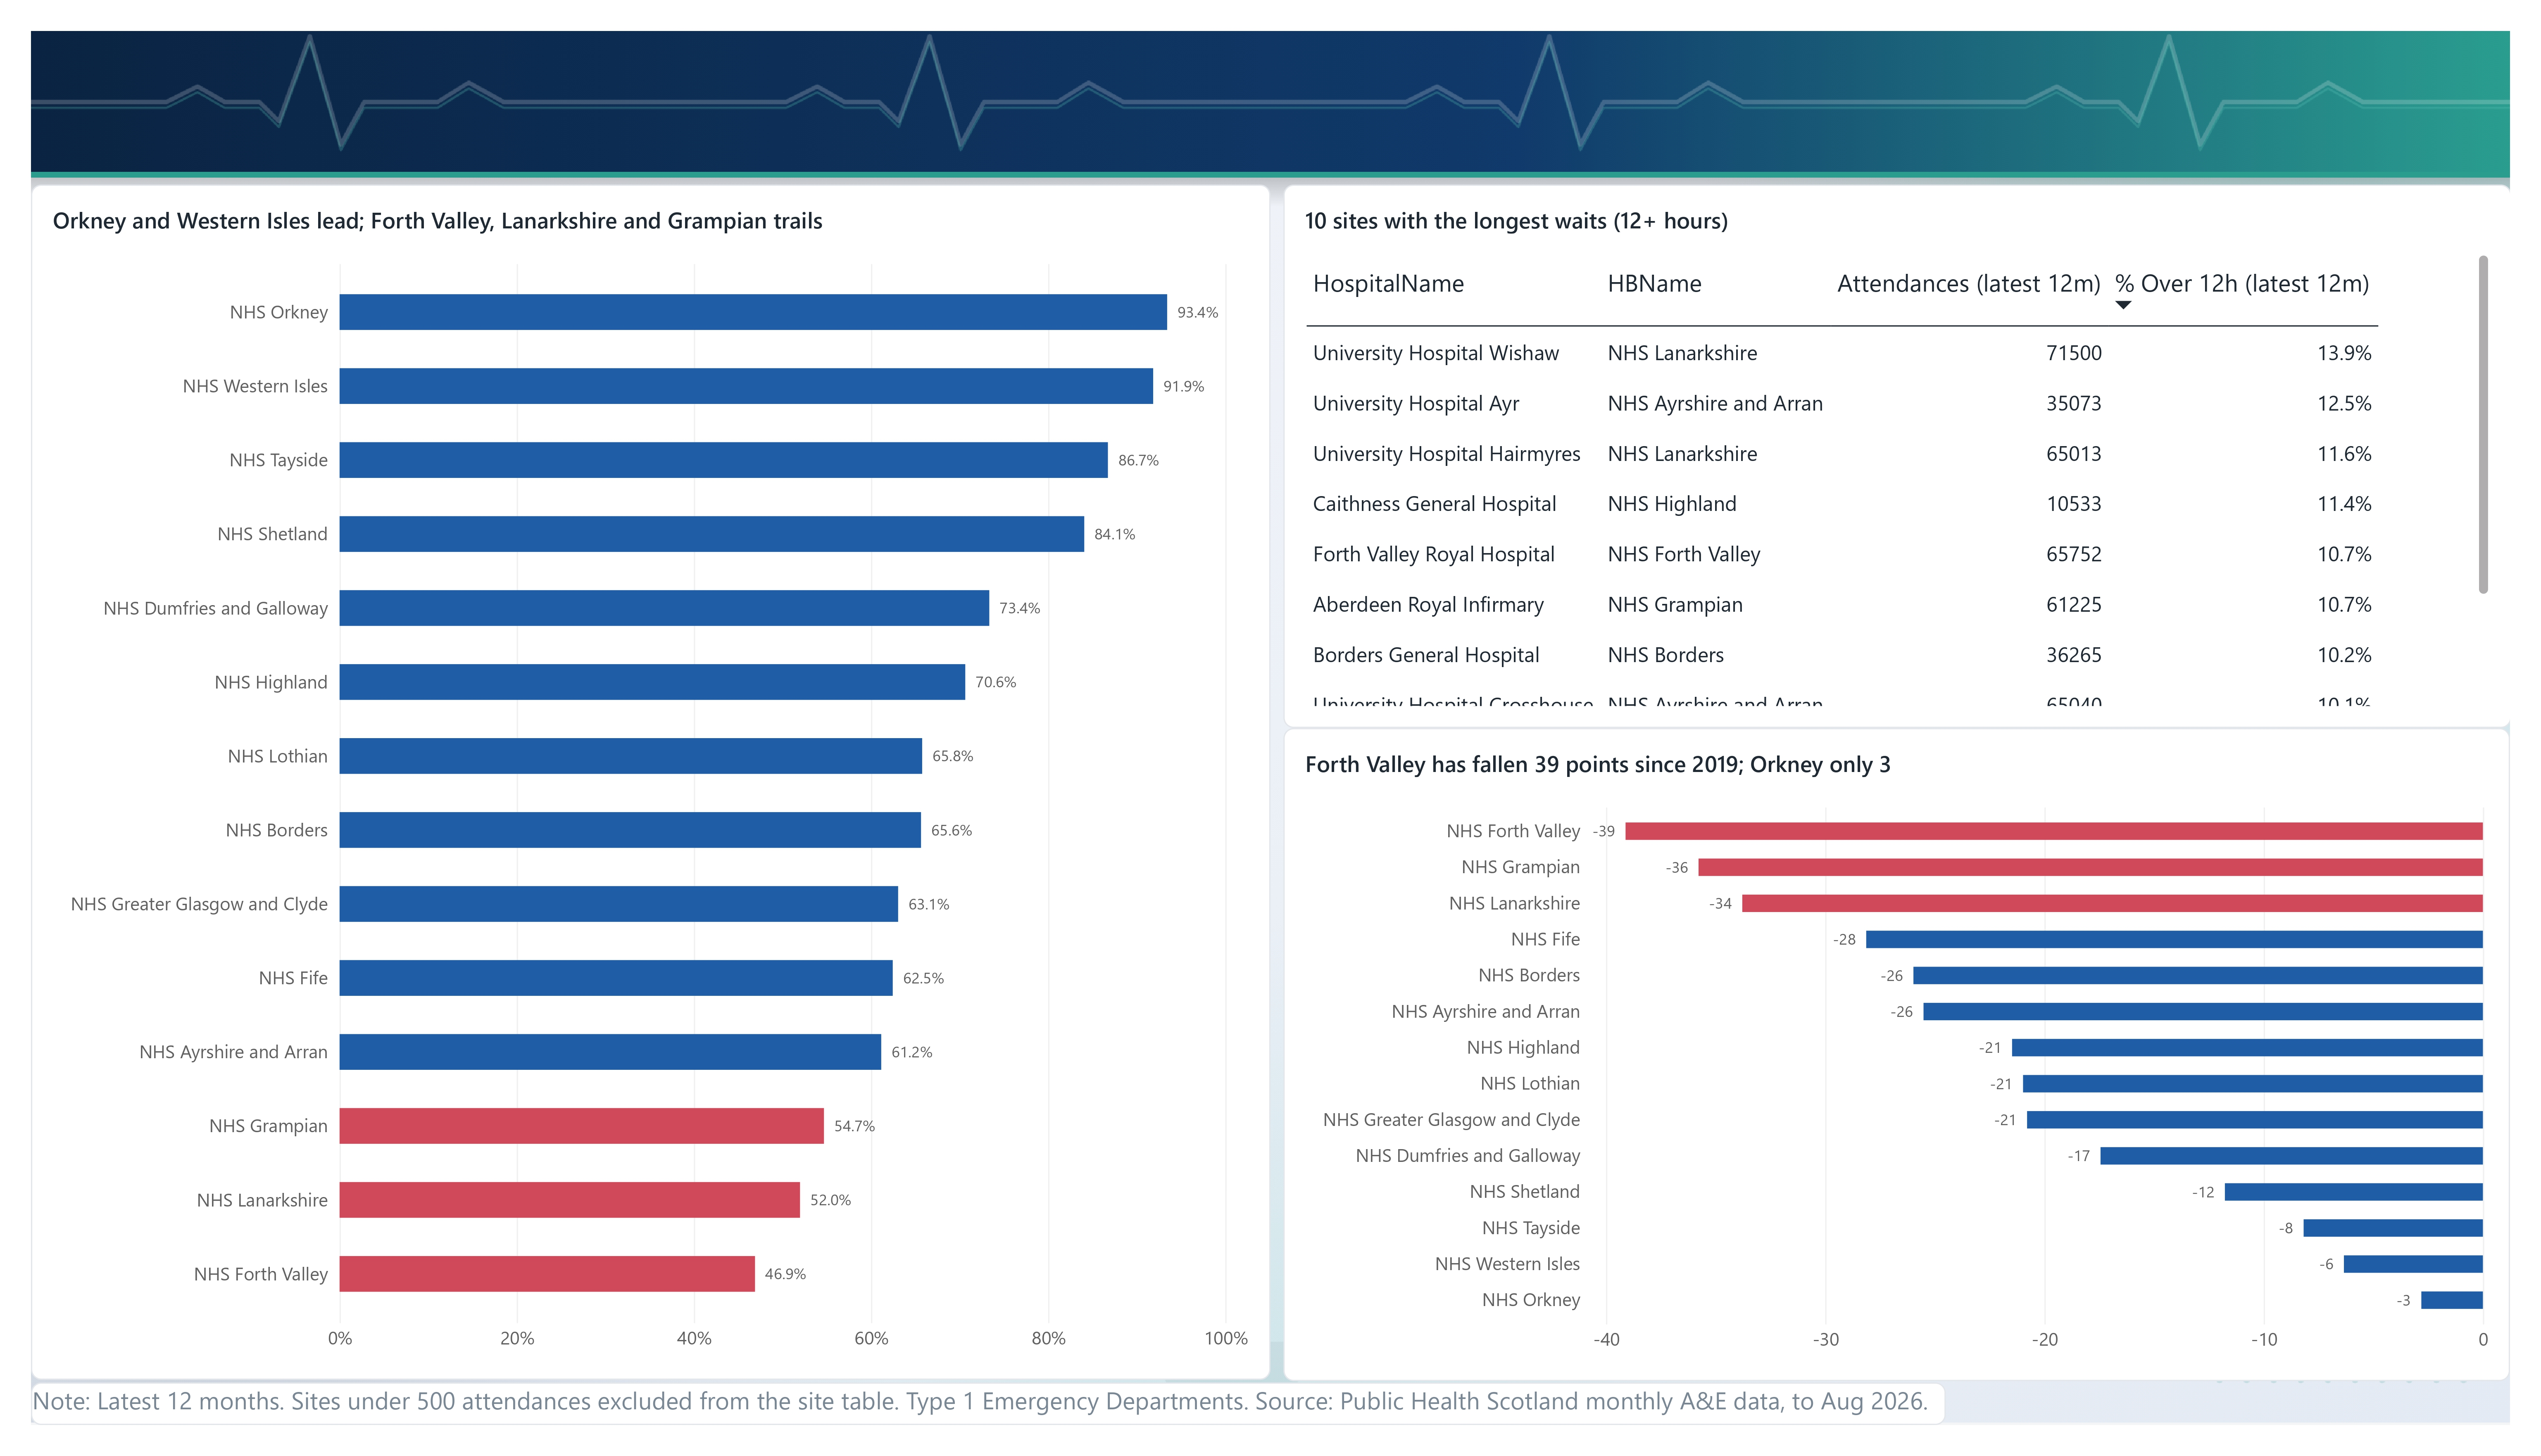

What the dashboard file says about the page in this screenshot:
{"tool":"powerbi","page":{"name":"Boards and Sites","canvas":[1920,1080],"ordinal":1},"visuals":[{"type":"barChart","title":"Orkney and Western Isles lead; Forth Valley, Lanarkshire and Grampian trails","fields":{"Category":["ae_clean.HBName"],"Y":["ae_clean.% Within 4h (latest 12m)"]},"box":[0,0,960,1045.7],"z":0},{"type":"tableEx","title":"10 sites with the longest waits (12+ hours)","fields":{"Values":["ae_clean.HospitalName","ae_clean.HBName","ae_clean.Attendances (latest 12m)","ae_clean.% Over 12h (latest 12m)"]},"box":[970,0,950,540],"z":1000},{"type":"barChart","title":"Forth Valley has fallen 39 points since 2019; Orkney only 3","fields":{"Category":["ae_clean.HBName"],"Y":["ae_clean.Change vs 2019 (pts)"]},"box":[970,540,950,505.7],"z":2000},{"type":"textbox","box":[0,1047.1,1482.9,32.9],"z":2001}]}

Visuals, with their boxes on the page's 1920x1080 design canvas (x1, y1, x2, y2). These are canvas units, not pixel positions in the 2541x1456 screenshot, which may show the page scaled, cropped or inside an application window:
"Orkney and Western Isles lead; Forth Valley, Lanarkshire and Grampian trails" barChart: box=[0, 0, 960, 1046]
"10 sites with the longest waits (12+ hours)" tableEx: box=[970, 0, 1920, 540]
"Forth Valley has fallen 39 points since 2019; Orkney only 3" barChart: box=[970, 540, 1920, 1046]
textbox: box=[0, 1047, 1483, 1080]
